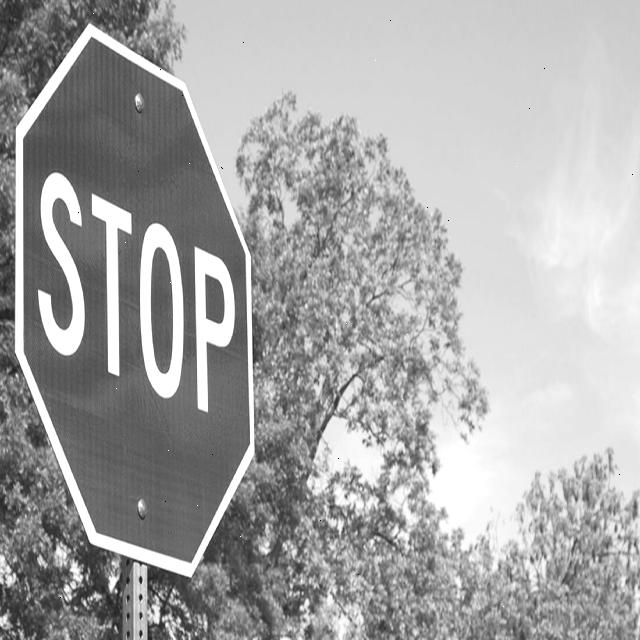Stop-sign: (7, 21, 261, 594)
